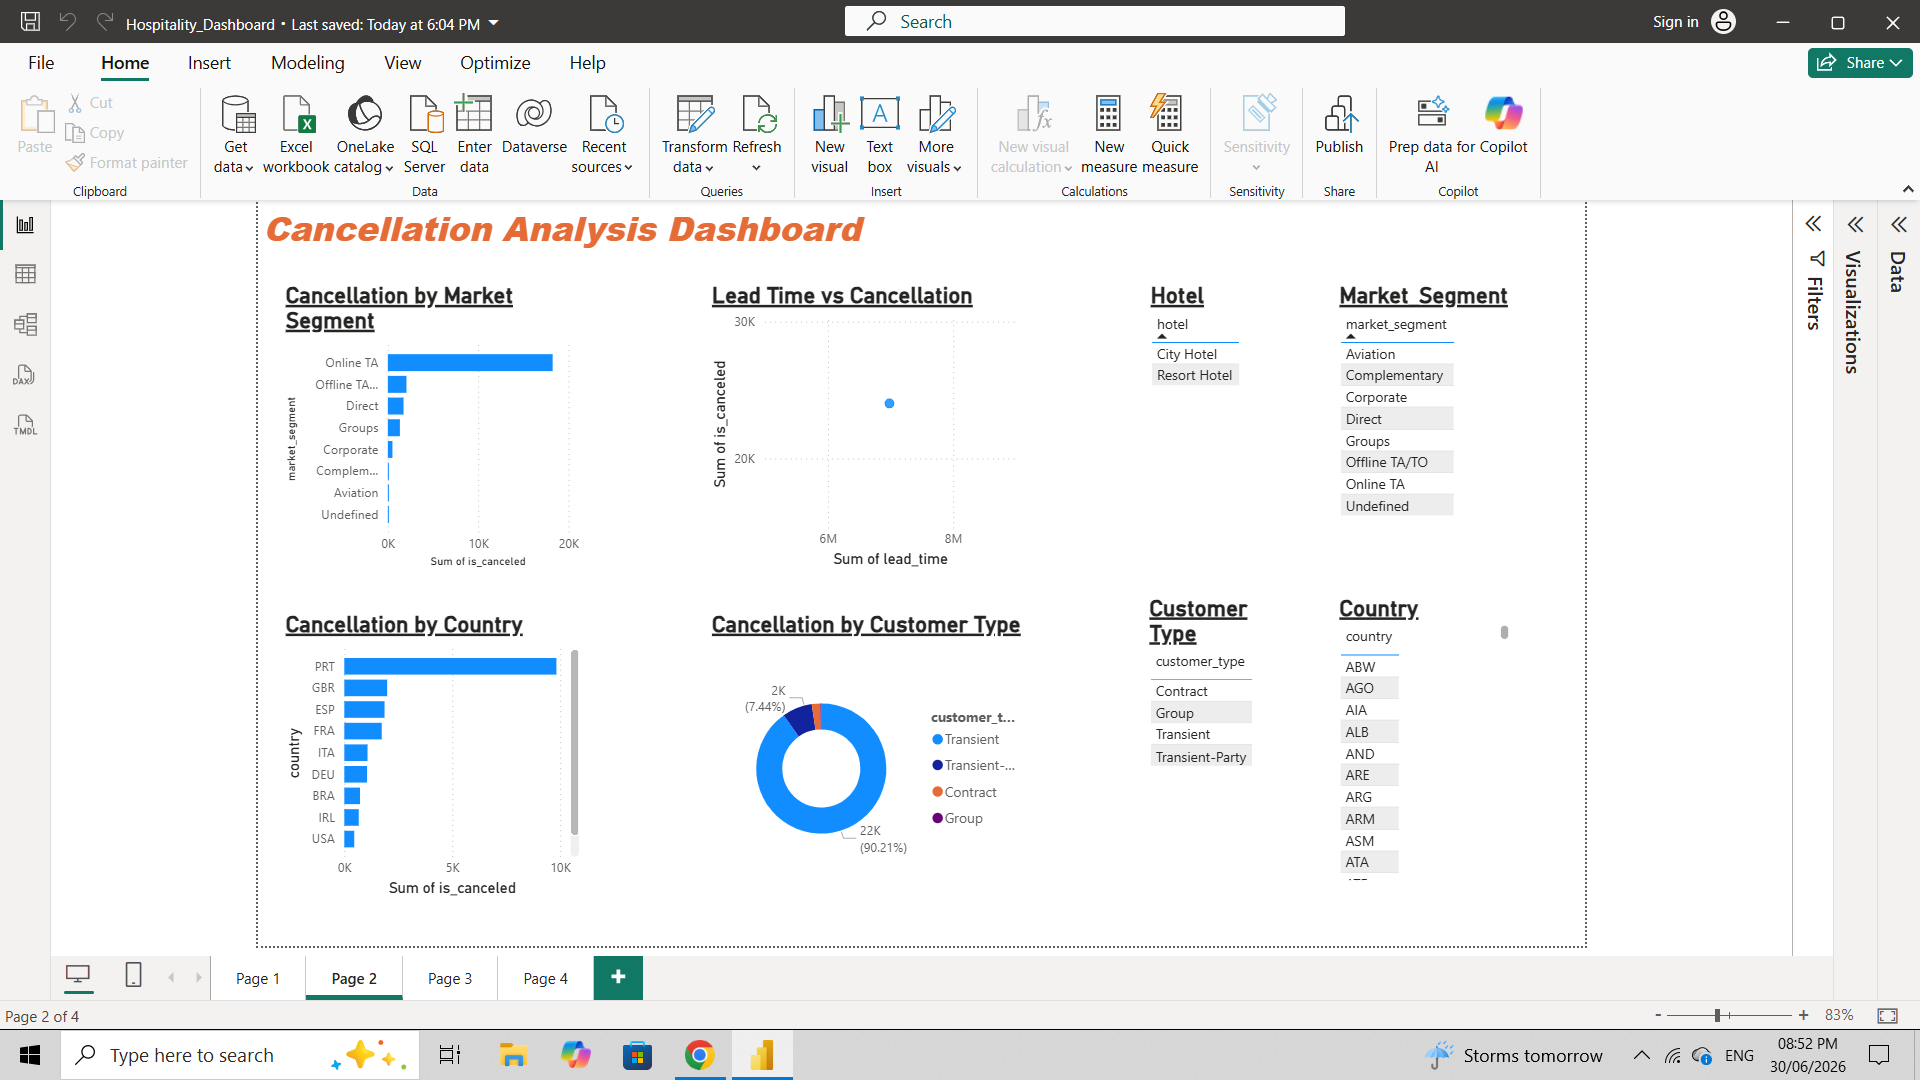

The page's visual inventory and layout, read from the dashboard file:
{"tool":"powerbi","page":{"name":"Page 2","canvas":[1280,720],"ordinal":1},"visuals":[{"type":"clusteredBarChart","title":"Cancellation by Market Segment","fields":{"Category":["cleaned_hotel_booking_dataset.market_segment"],"Y":["Sum(cleaned_hotel_booking_dataset.is_canceled)"]},"box":[105,79.6,293.2,279.9],"z":0},{"type":"barChart","title":"Cancellation by Country","fields":{"Category":["cleaned_hotel_booking_dataset.country"],"Y":["Sum(cleaned_hotel_booking_dataset.is_canceled)"]},"box":[105,409,293.2,279.9],"z":1000},{"type":"scatterChart","title":"Lead Time vs Cancellation","fields":{"X":["Sum(cleaned_hotel_booking_dataset.lead_time)"],"Y":["Sum(cleaned_hotel_booking_dataset.is_canceled)"]},"box":[674.4,79.6,312.5,279.9],"z":2000},{"type":"donutChart","title":"Cancellation by Customer Type","fields":{"Category":["cleaned_hotel_booking_dataset.customer_type"],"Y":["Sum(cleaned_hotel_booking_dataset.is_canceled)"]},"box":[674.4,409,312.5,279.9],"z":3000},{"type":"textbox","box":[0,0,647.9,59.1],"z":3001}]}

Visuals, with their boxes on the page's 1280x720 design canvas (x1, y1, x2, y2). These are canvas units, not pixel positions in the 1920x1080 screenshot, which may show the page scaled, cropped or inside an application window:
"Cancellation by Market Segment" clusteredBarChart: (left=105, top=80, right=398, bottom=360)
"Cancellation by Country" barChart: (left=105, top=409, right=398, bottom=689)
"Lead Time vs Cancellation" scatterChart: (left=674, top=80, right=987, bottom=360)
"Cancellation by Customer Type" donutChart: (left=674, top=409, right=987, bottom=689)
textbox: (left=0, top=0, right=648, bottom=59)
